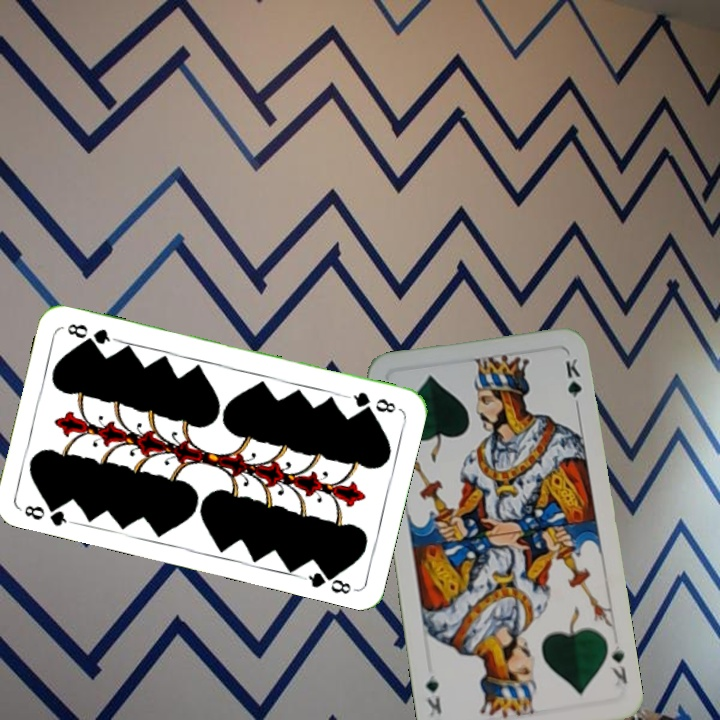G8: (17, 497, 76, 529), (343, 388, 399, 416)
GK: (607, 641, 630, 686)
